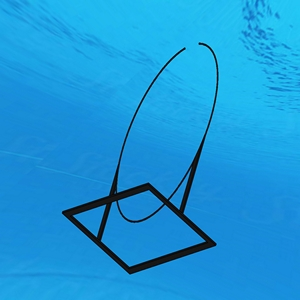circle: (61, 39, 222, 277)
